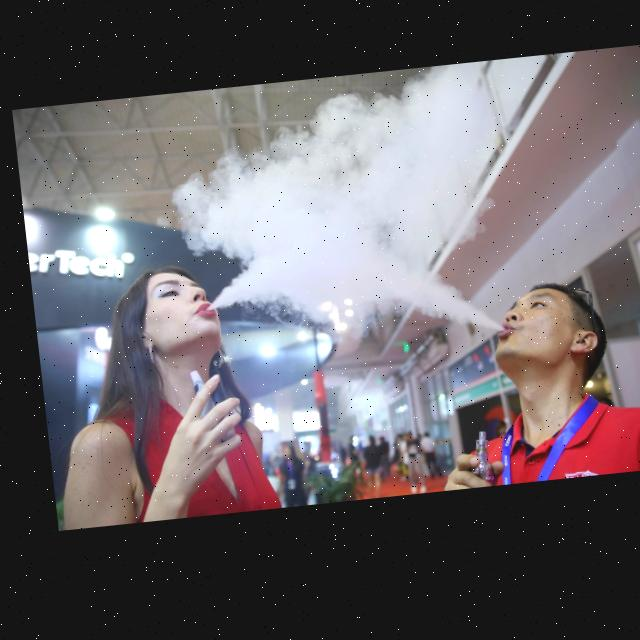vape: (181, 371, 225, 446), (458, 439, 482, 493)
